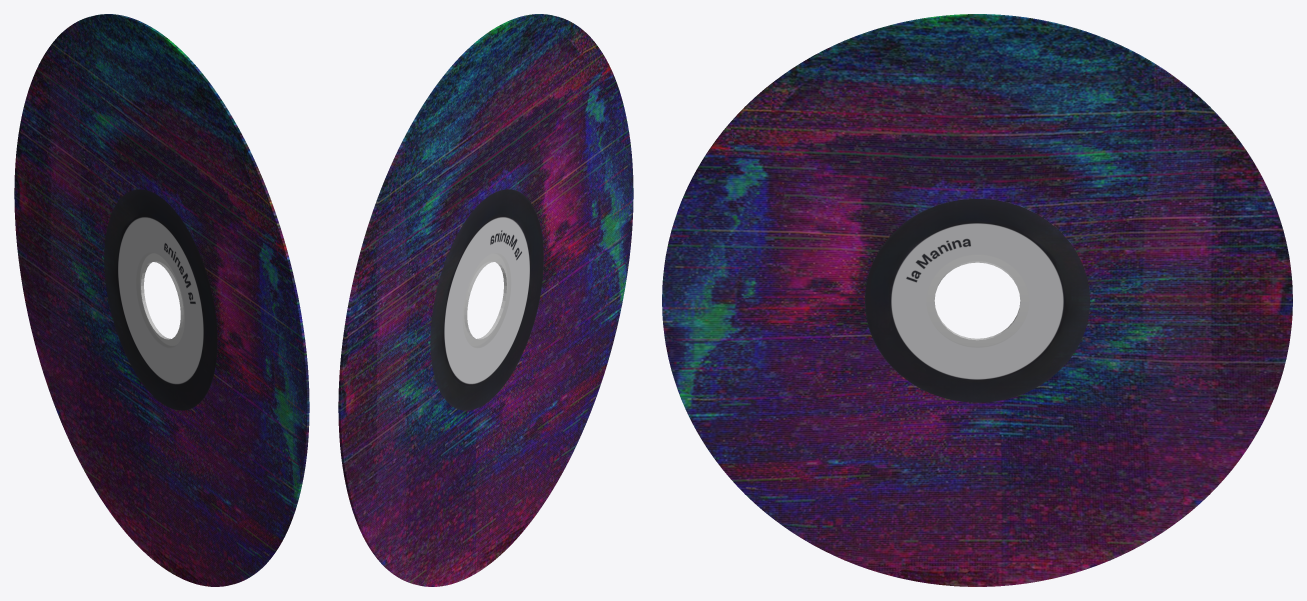
The model's file is CD_Lamanina.glb.
3 views of the same model, side by side, from view 1: azimuth 30°, elevation 25°; view 2: azimuth 150°, elevation 25°; view 3: azimuth 270°, elevation 25° (orthographic). The views are drawn at different scales.
Parts seen in each view (by area): view 1: CD; view 2: CD; view 3: CD.
Boxes of the visible parts, left/top/right/bottom form: CD: left=14, top=14, right=309, bottom=586; CD: left=338, top=14, right=633, bottom=586; CD: left=662, top=14, right=1292, bottom=586.
Bounding box in the file's own units: 0.0111 × 1.87 × 1.87.
Materials: 2 (2 with a texture image).
